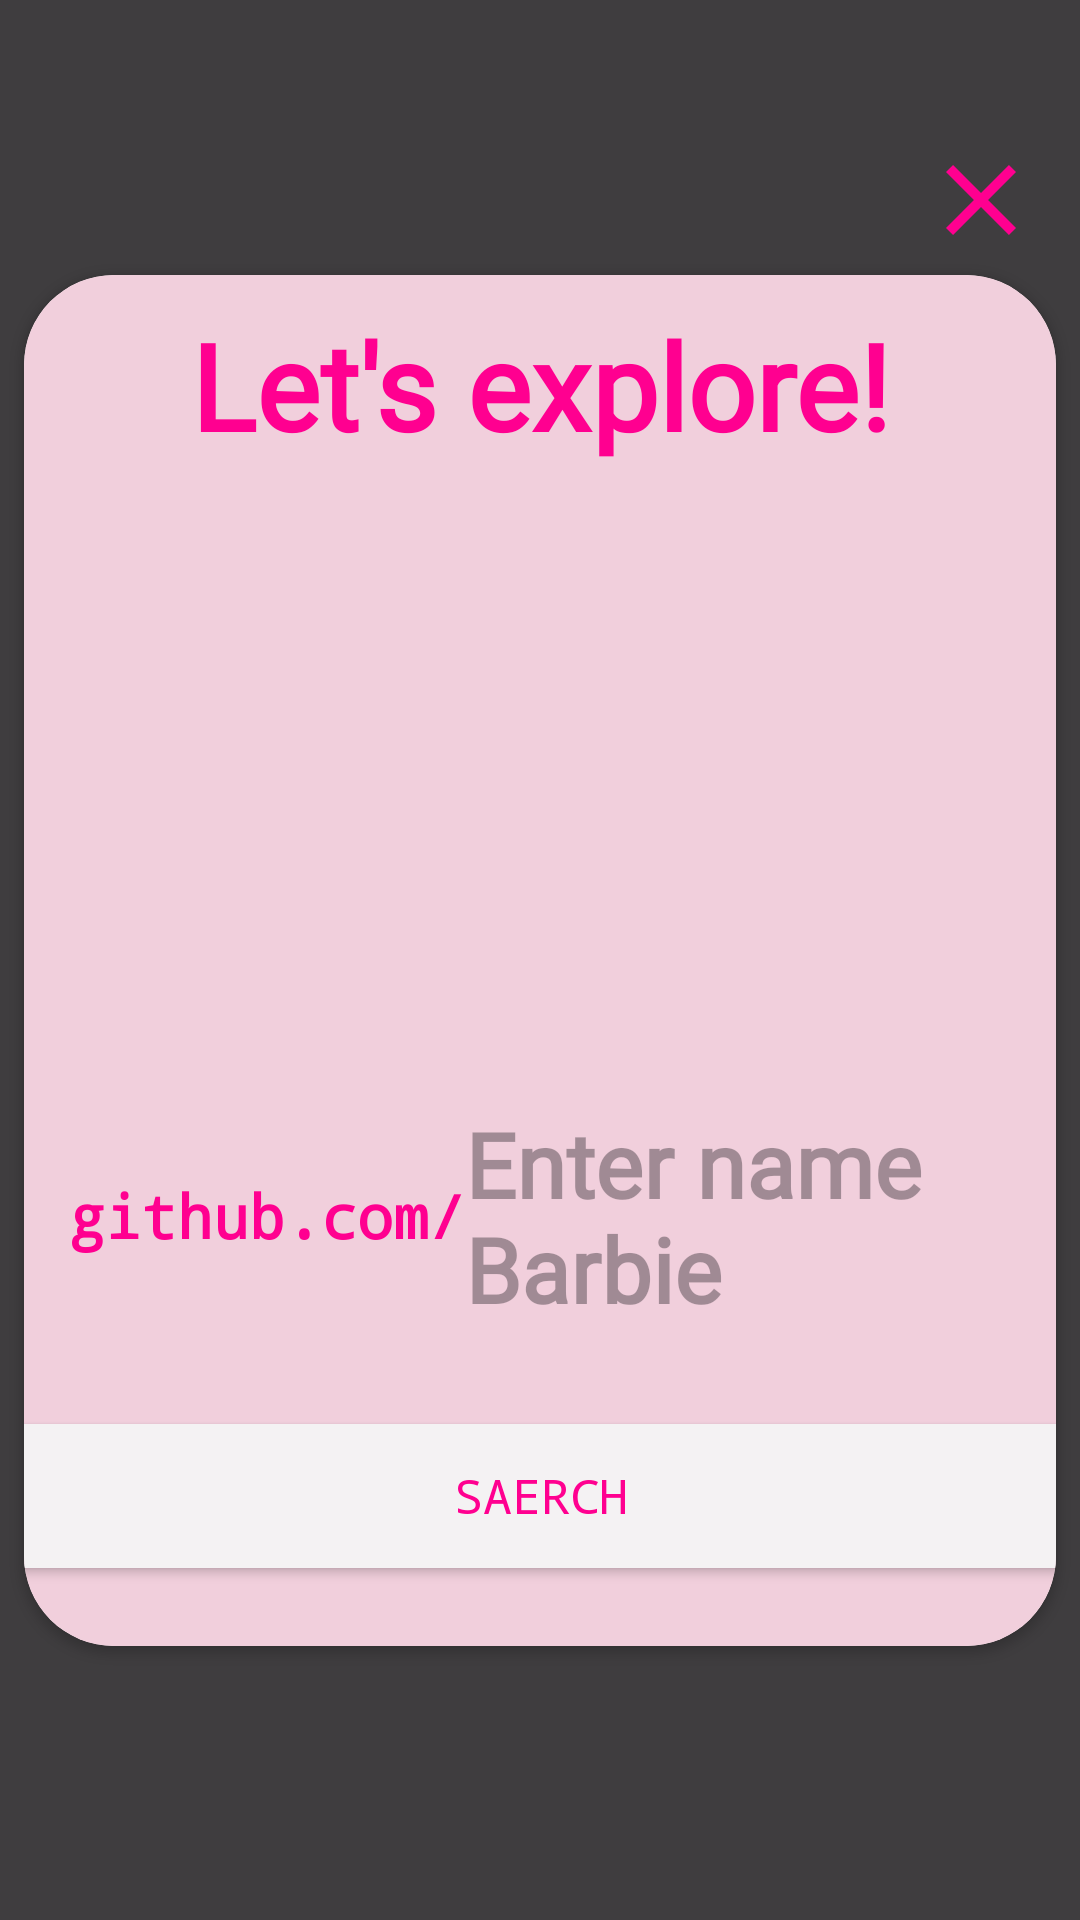

Screen size 1080 x 1920. Icon name, then its box in pixels as box(x1, y1, x2, y2):
clear: box(946, 165, 1016, 235)
